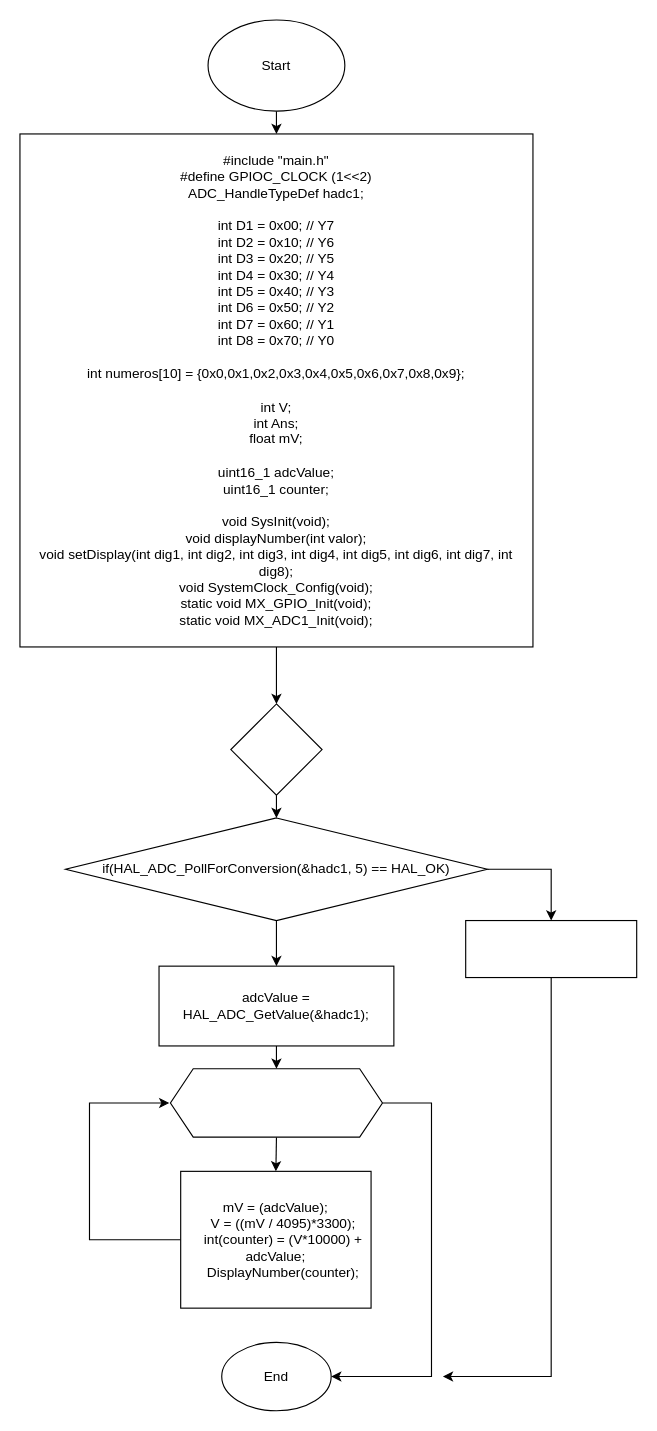
This 657x1431 diagram has some shape labels left out. The shapes that lost their labels are listed below. From the top down, each one's box as (x1, y1, x2, y2) in pixels, then its label:
(230, 703, 322, 795): While(1)
(465, 919, 637, 978): HAL_ADC_Stop(&hadc1);
(169, 1068, 382, 1137): for(int i = 0 ; i < 30 ; i++)
